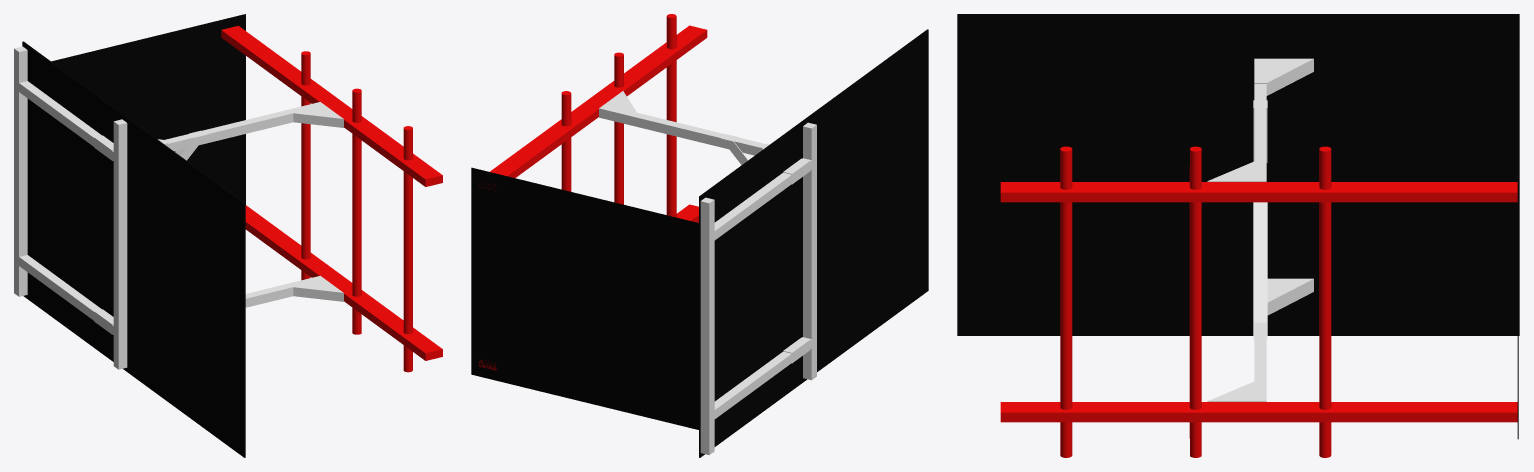
Rendered from Tower Optimized.fbx.
3 views of the same model, side by side, from view 1: azimuth 30°, elevation 25°; view 2: azimuth 150°, elevation 25°; view 3: azimuth 270°, elevation 25° (orthographic). The views are drawn at different scales.
Parts seen in each view (by area): view 1: mesh110, mesh103, mesh45, mesh75, mesh88, mesh42, mesh85, mesh86, mesh79, mesh12, mesh87, mesh89 (+9 smaller); view 2: mesh110, mesh104, mesh45, mesh75, mesh27, mesh85, mesh3, mesh79, mesh56, mesh57, mesh86, mesh11 (+3 smaller); view 3: mesh105, mesh78, mesh90, mesh75, mesh88, mesh85, mesh86, mesh87, mesh66, mesh57, mesh69, mesh46 (+4 smaller).
Boxes of the visible parts, x1=… form: mesh110: x1=22, y1=42, x2=244, y2=457; mesh103: x1=52, y1=14, x2=245, y2=204; mesh45: x1=14, y1=48, x2=118, y2=369; mesh75: x1=222, y1=25, x2=442, y2=179; mesh88: x1=245, y1=205, x2=442, y2=353; mesh42: x1=118, y1=123, x2=193, y2=369; mesh85: x1=403, y1=171, x2=412, y2=334; mesh86: x1=352, y1=134, x2=361, y2=296; mesh79: x1=221, y1=30, x2=425, y2=186; mesh12: x1=19, y1=92, x2=27, y2=256; mesh87: x1=301, y1=96, x2=310, y2=259; mesh89: x1=245, y1=222, x2=425, y2=360; mesh110: x1=700, y1=30, x2=928, y2=457; mesh104: x1=471, y1=168, x2=698, y2=429; mesh45: x1=709, y1=125, x2=816, y2=454; mesh75: x1=490, y1=25, x2=706, y2=175; mesh27: x1=700, y1=201, x2=709, y2=454; mesh85: x1=666, y1=60, x2=676, y2=217; mesh3: x1=803, y1=170, x2=811, y2=338; mesh79: x1=507, y1=30, x2=707, y2=177; mesh56: x1=599, y1=108, x2=728, y2=149; mesh57: x1=599, y1=91, x2=764, y2=147; mesh86: x1=614, y1=121, x2=623, y2=204; mesh11: x1=714, y1=351, x2=791, y2=409; mesh105: x1=957, y1=14, x2=1519, y2=335; mesh78: x1=1000, y1=192, x2=1517, y2=202; mesh90: x1=1000, y1=412, x2=1517, y2=422; mesh75: x1=1000, y1=182, x2=1517, y2=192; mesh88: x1=1000, y1=402, x2=1517, y2=412; mesh85: x1=1060, y1=202, x2=1072, y2=409; mesh86: x1=1189, y1=202, x2=1201, y2=409; mesh87: x1=1319, y1=202, x2=1331, y2=409; mesh66: x1=1253, y1=202, x2=1267, y2=339; mesh57: x1=1208, y1=84, x2=1267, y2=181; mesh69: x1=1208, y1=322, x2=1266, y2=401; mesh46: x1=1254, y1=58, x2=1313, y2=82.
Size of the model in its own units: 119 by 125 by 198.
